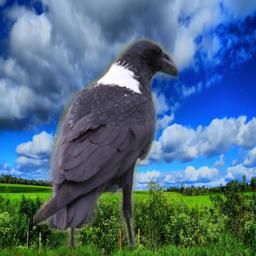Crow: (33, 38, 178, 247)
